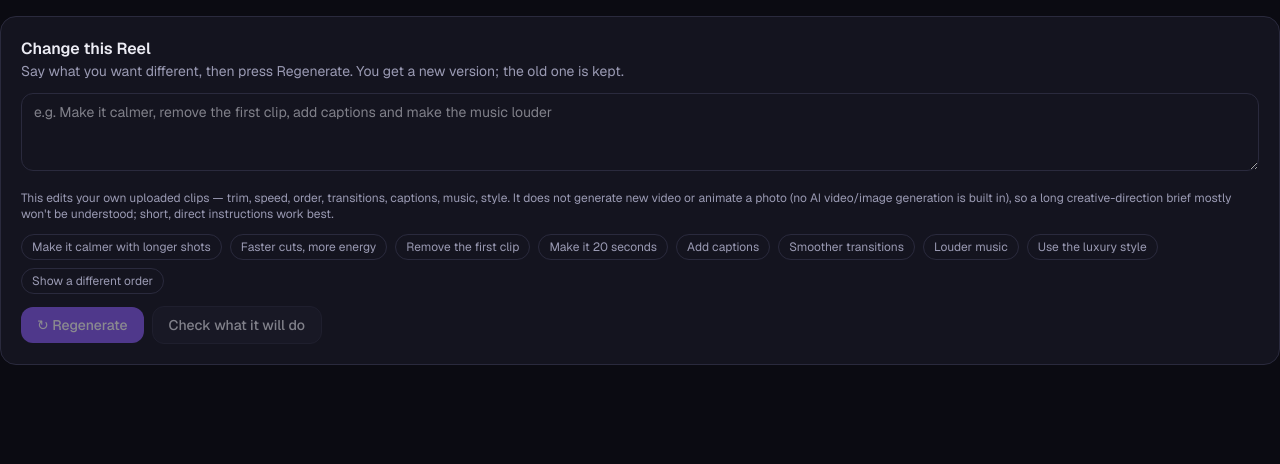
ReviseBox (change a Reel with words) › can check first without changing anything
Type "remove the first clip" into the text box named "What should change?" at (640, 132), box x1=21 y1=93 x2=1259 y2=171
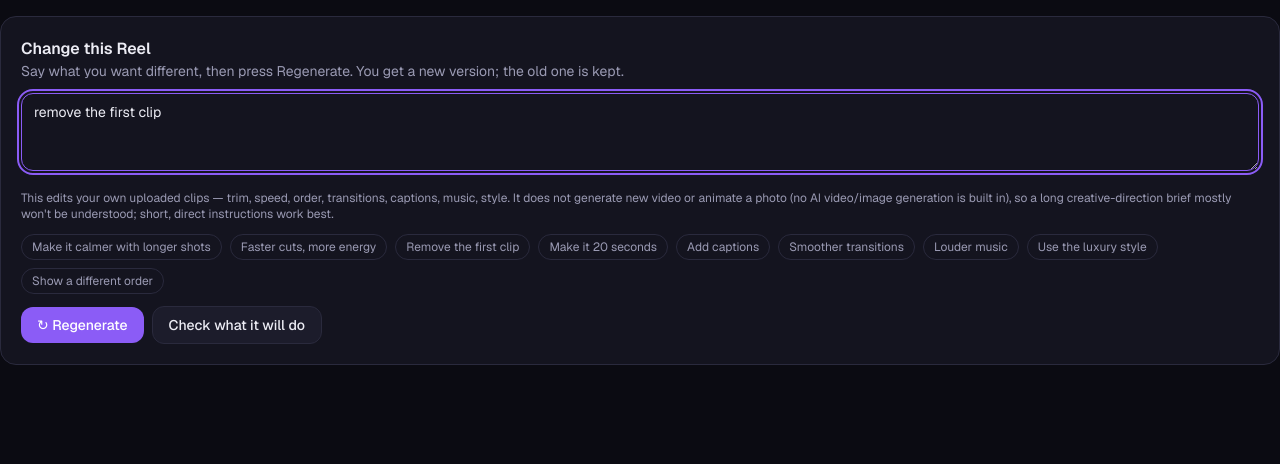
Click the button "Check what it will do" at (237, 325), box x1=152 y1=306 x2=322 y2=344
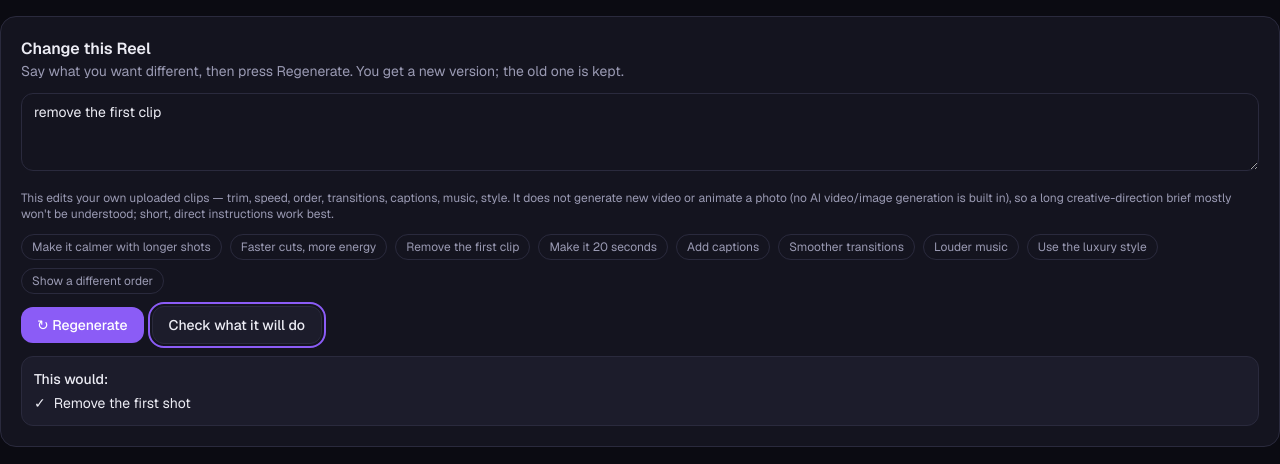
Now the text "This would:" is shown, box x1=34 y1=370 x2=108 y2=388
